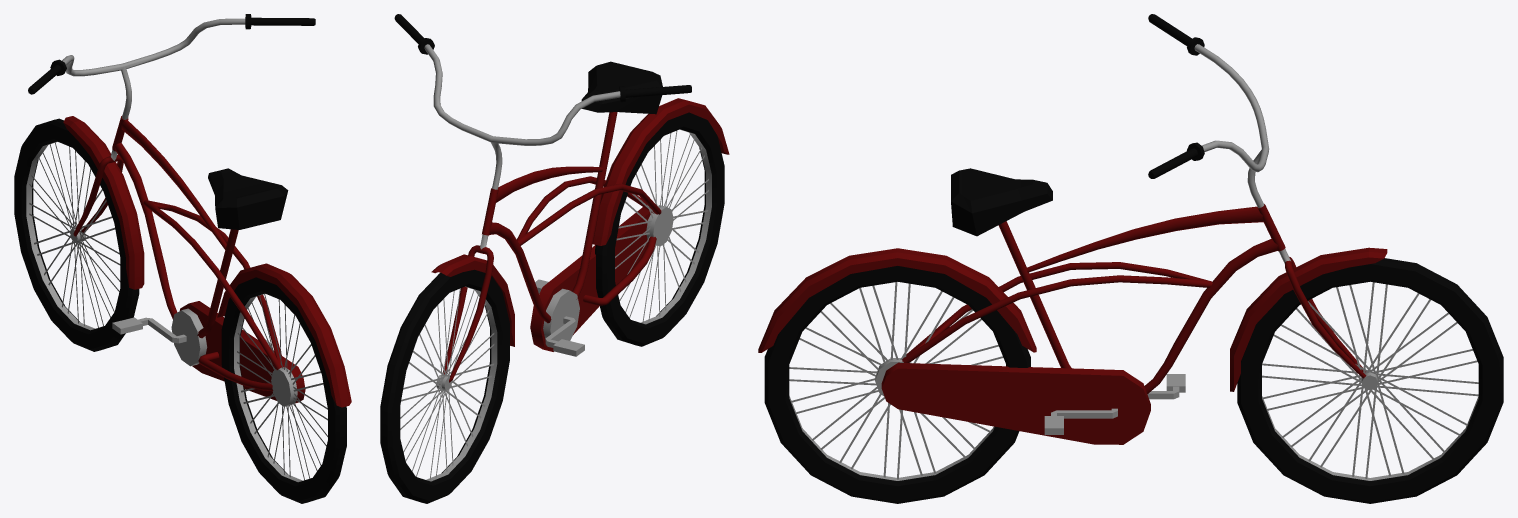
File: CLEM(zone01)bicycle.FBX
3 renders of one model, left to right at view 1: azimuth 30°, elevation 25°; view 2: azimuth 150°, elevation 25°; view 3: azimuth 270°, elevation 25°, orthographic. The views are drawn at different scales.
Visible parts, largest first — view 1: Handlebar, Body, WheelBack, Pedals; view 2: Handlebar, Body, WheelBack, Pedals; view 3: Body, Handlebar, WheelBack, Pedals.
Boxes of the visible parts, x1,y1,x2,y2 form: Handlebar: (14,14,315,351); Body: (114,119,351,407); WheelBack: (221,277,346,503); Pedals: (112,308,272,366); Handlebar: (380,14,691,503); Body: (489,61,729,351); WheelBack: (595,112,724,346); Pedals: (535,279,584,356); Body: (758,168,1277,444); Handlebar: (1148,14,1503,503); WheelBack: (764,266,1030,503); Pedals: (1044,374,1185,434).
Size of the model in its own units: 3.05 by 3.66 by 6.01.
